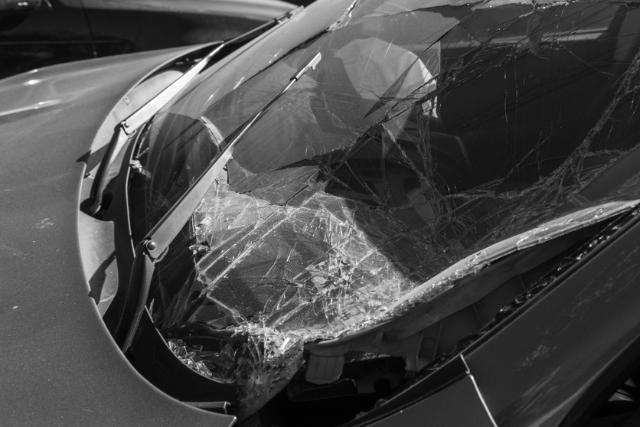Windshield: (161, 64, 640, 370)
